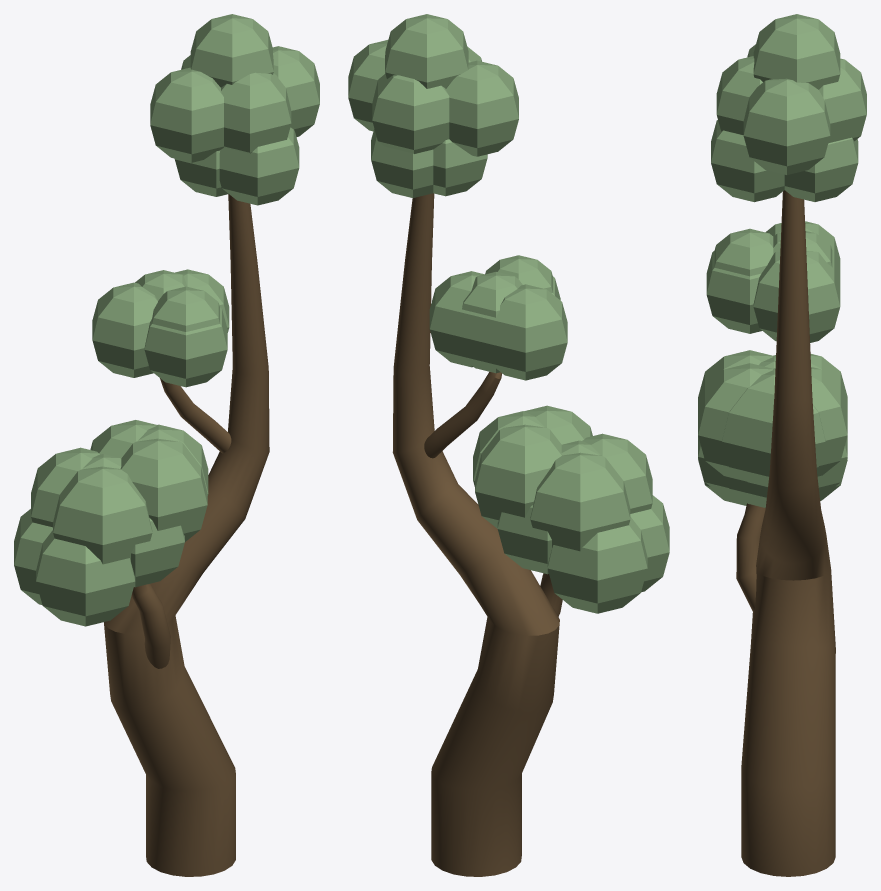
The model's file is tree_combined.fbx.
3 renders of one model, left to right at view 1: azimuth 30°, elevation 25°; view 2: azimuth 150°, elevation 25°; view 3: azimuth 270°, elevation 25°, orthographic. The views are drawn at different scales.
Visible parts, largest first — view 1: tree_Raw; view 2: tree_Raw; view 3: tree_Raw.
Boxes of the visible parts, x1,y1,x2,y2 form: tree_Raw: [14, 14, 319, 876]; tree_Raw: [348, 14, 669, 876]; tree_Raw: [698, 14, 866, 876].
Size of the model in its own units: 87.18 by 228 by 40.48.
